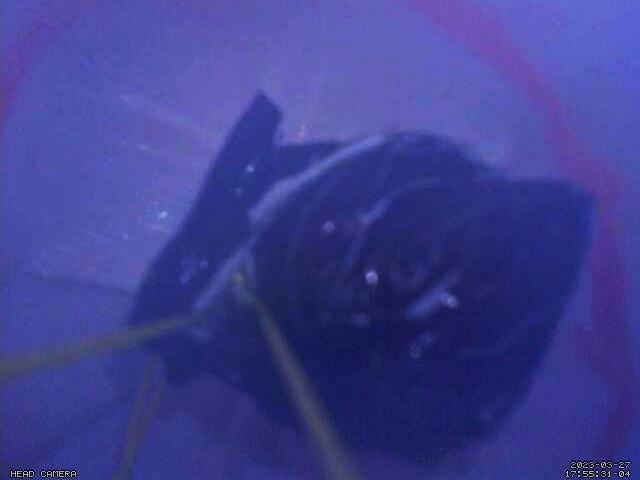head: (0, 0, 636, 480)
